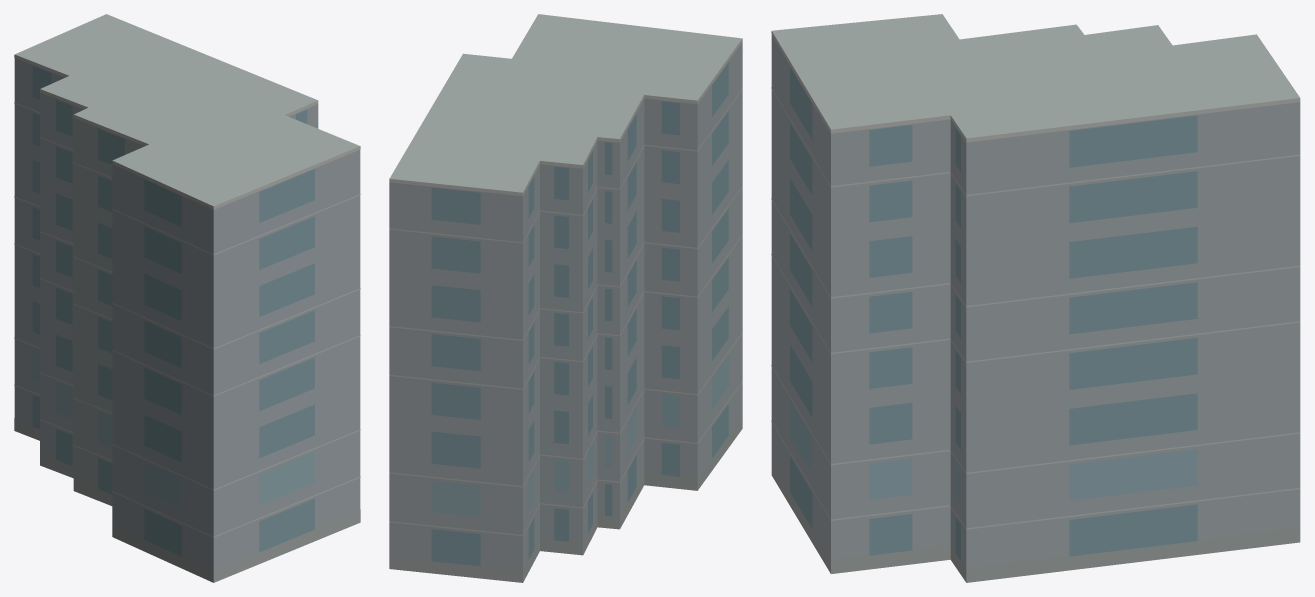
The model's file is survey-upis-32797284.glb.
3 views of the same model, side by side, from view 1: azimuth 30°, elevation 25°; view 2: azimuth 150°, elevation 25°; view 3: azimuth 270°, elevation 25° (orthographic). The views are drawn at different scales.
Parts seen in each view (by area): view 1: survey-upis-32797284.tmp; view 2: survey-upis-32797284.tmp; view 3: survey-upis-32797284.tmp.
Boxes of the visible parts, x1=… form: survey-upis-32797284.tmp: x1=14, y1=14, x2=360, y2=582; survey-upis-32797284.tmp: x1=389, y1=14, x2=742, y2=582; survey-upis-32797284.tmp: x1=771, y1=14, x2=1300, y2=582.
Bounding box in the file's own units: 15.95 × 26.5 × 28.6.
